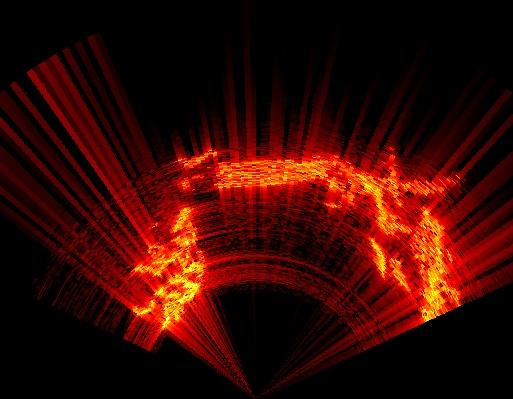shipwreck: (215, 157, 460, 320), (132, 206, 206, 329)
